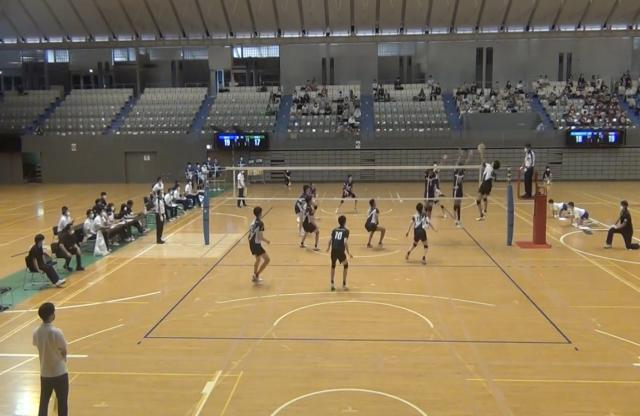spike: (472, 140, 502, 228)
